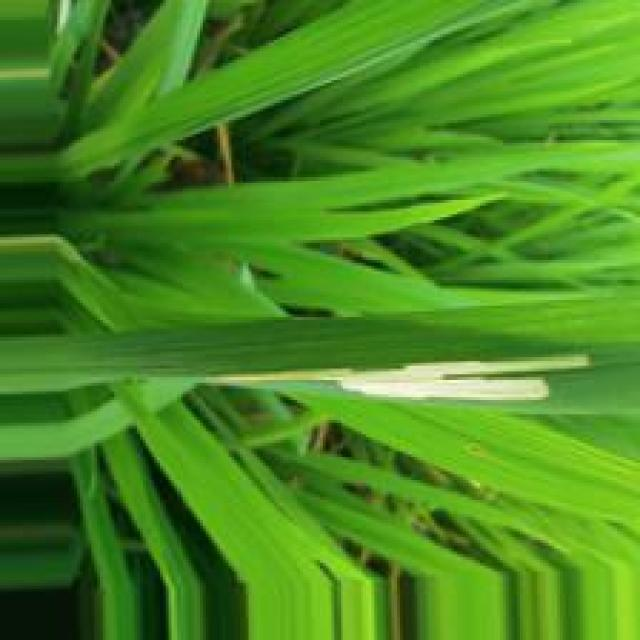Rice_Hispa: (203, 352, 590, 405)
